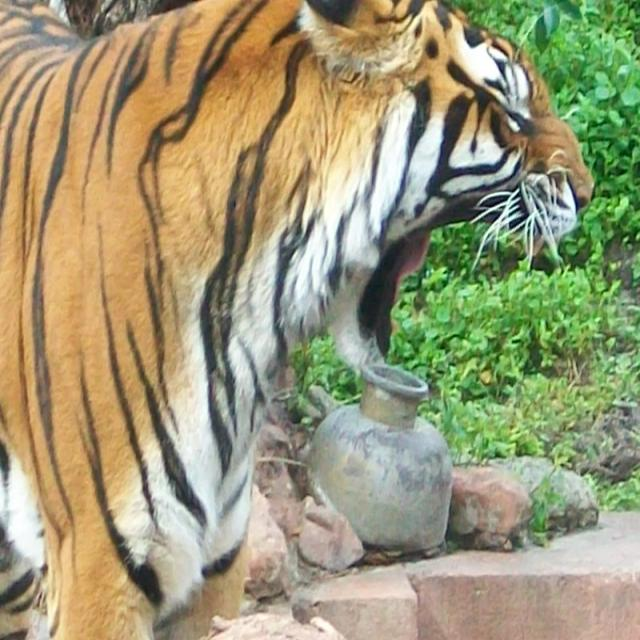Tiger: (9, 0, 605, 577)
